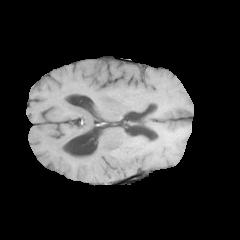glioma: (53, 134, 161, 183)
